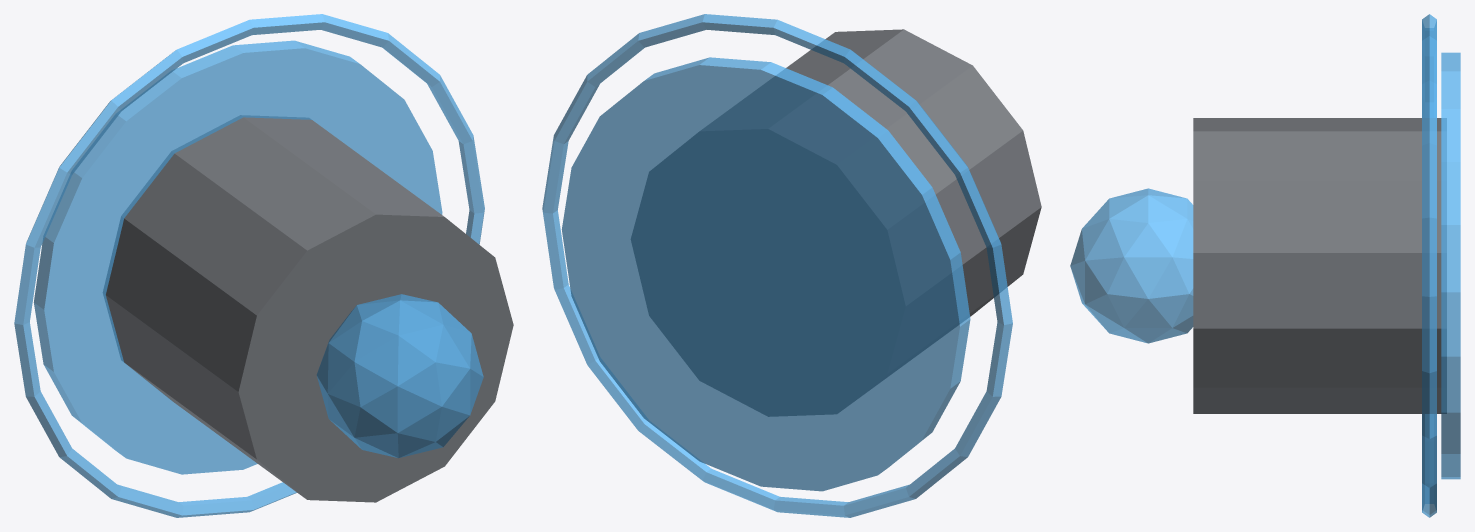
Rendered from 05_practice_terminal.glb.
3 views of the same model, side by side, from view 1: azimuth 30°, elevation 25°; view 2: azimuth 150°, elevation 25°; view 3: azimuth 270°, elevation 25° (orthographic). The views are drawn at different scales.
Visible parts, largest first — view 1: station_body, base_disc, core, base_ring; view 2: base_disc, station_body, base_ring; view 3: station_body, core, base_disc, base_ring.
Boxes of the visible parts, x1,y1,x2,y2 form: station_body: [103, 115, 513, 502]; base_disc: [33, 40, 442, 474]; core: [316, 294, 483, 458]; base_ring: [14, 14, 484, 517]; base_disc: [561, 57, 970, 491]; station_body: [631, 29, 1041, 416]; base_ring: [542, 14, 1012, 517]; station_body: [1193, 118, 1446, 413]; core: [1070, 188, 1193, 343]; base_disc: [1441, 52, 1460, 479]; base_ring: [1422, 14, 1436, 517].
Size of the model in its own units: 1.3 by 1.3 by 1.
